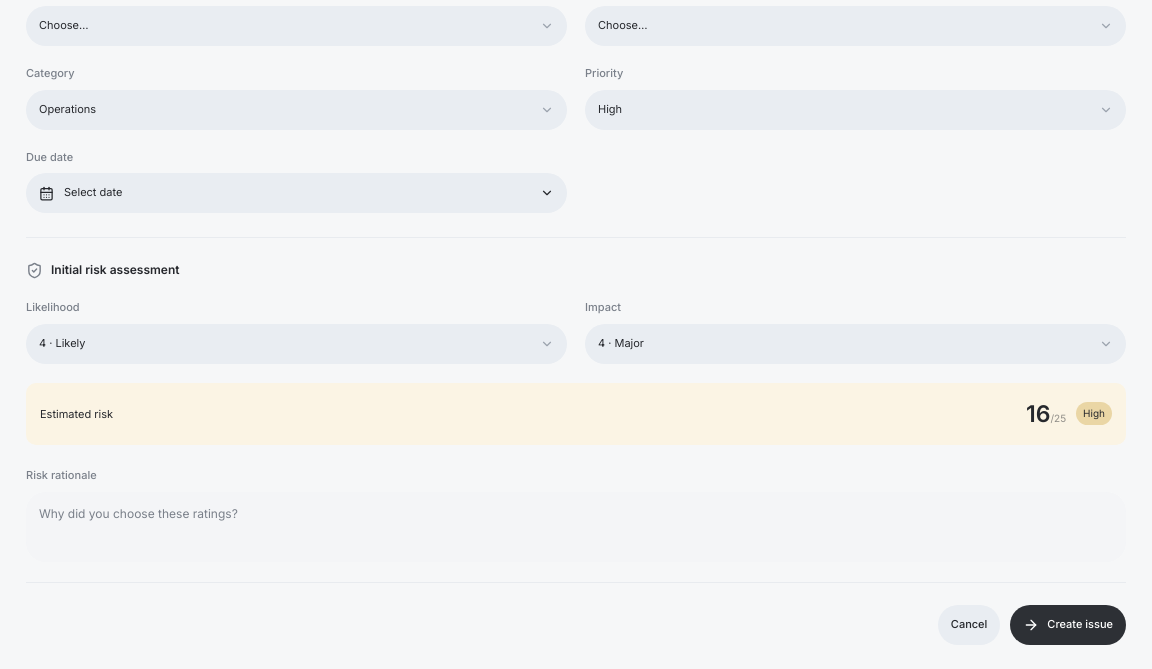
it: Issue validation › displays field errors before submitting an empty form
This screenshot has width=1152, height=669.
(page scrolled)
What coordinates should you click on to do the following:
click the button "Create issue"
I would click on:
 (1068, 625)
Its box is [1010,605,1126,645].
(page scrolled)
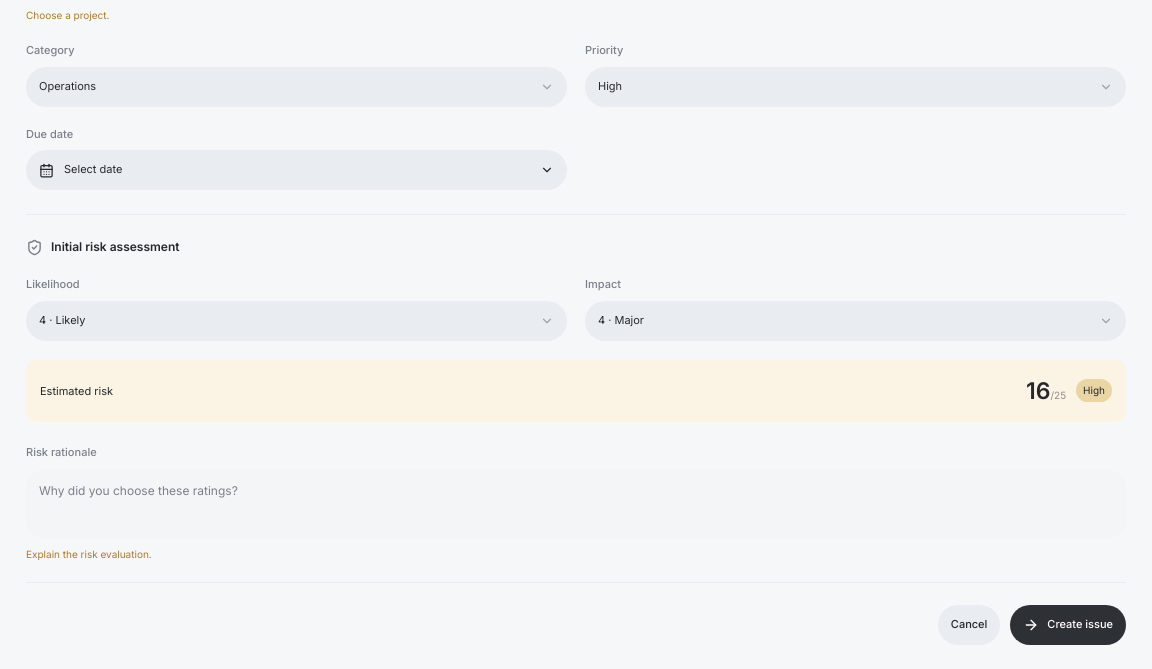
Now the text "Explain the risk evaluation." is shown, box [26,548,152,560]
